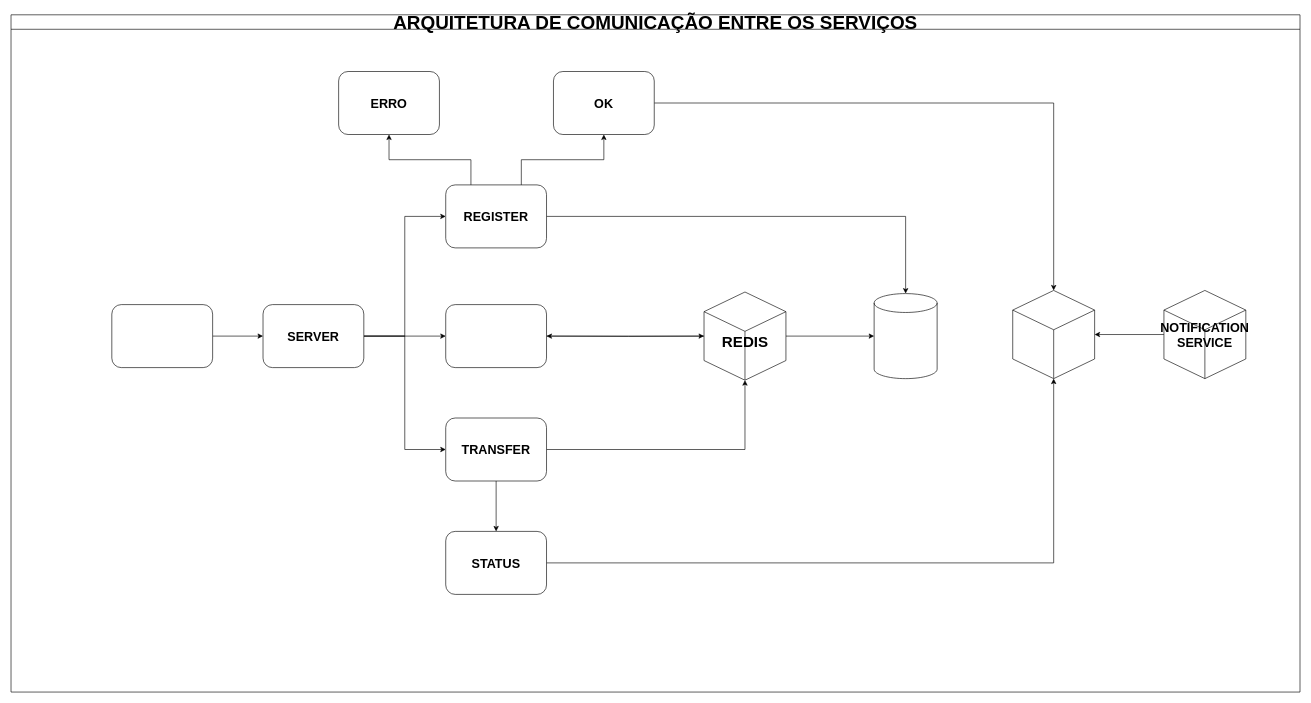
Some shapes in this 1311 by 703 pixel diagram are drawn without their labels. Each missing label, with the box of its shape:
DATABASE (POSTGRE): (873, 293, 937, 379)
LOGIN: (445, 304, 547, 368)
MQ ( APACHE KAFKA ): (1012, 290, 1095, 379)
USER: (111, 304, 213, 368)
